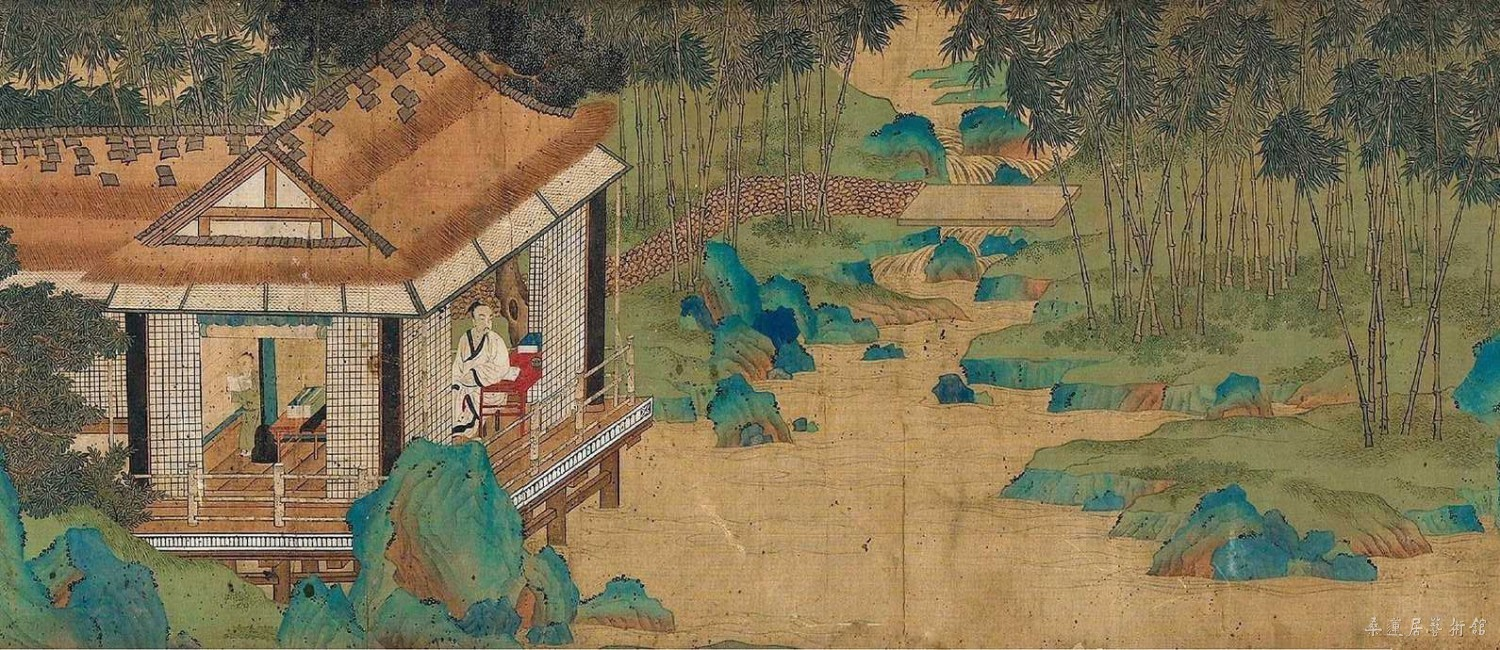bamboo: (970, 6, 1500, 341), (631, 14, 859, 273), (7, 2, 288, 124), (1359, 340, 1448, 436)
bridge: (929, 187, 1066, 218)
hill: (18, 524, 641, 650)
house: (157, 56, 613, 525)
kid: (227, 357, 265, 454)
man: (453, 310, 512, 428)
river: (660, 423, 1070, 650), (1088, 575, 1500, 646), (823, 343, 960, 420), (888, 248, 1009, 317)
tree: (4, 245, 150, 522)
